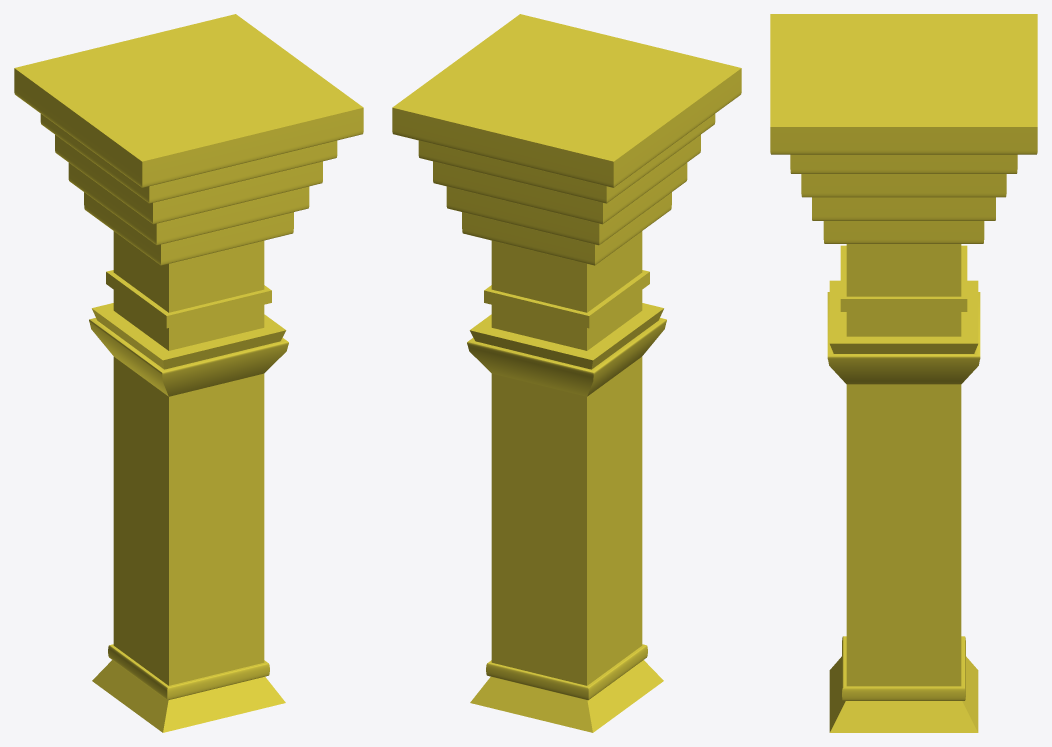
The model's file is PilastraReta.fbx.
The picture shows the model from 3 angles, left to right: view 1: azimuth 30°, elevation 25°; view 2: azimuth 150°, elevation 25°; view 3: azimuth 270°, elevation 25°; orthographic projection. The views are drawn at different scales.
Parts seen in each view (by area): view 1: PilastraReta; view 2: PilastraReta; view 3: PilastraReta.
Boxes of the visible parts, x1,y1,x2,y2 form: PilastraReta: [14, 14, 363, 732]; PilastraReta: [392, 14, 741, 732]; PilastraReta: [770, 14, 1037, 732].
Bounding box in the file's own units: 152 × 395 × 152.
